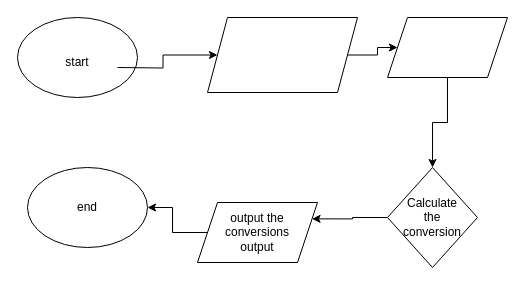
Image size: 525x285. Some labels were removed from this diagram. The shapes that lost their labels are listed below. From the top down, each one's centre as x and y in pixels, then its label:
[282,54]: ask for input what do they want to convert
[447,47]: ask what temperature they want to convert
